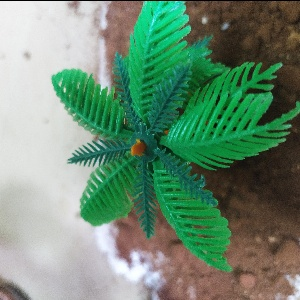plant: (33, 2, 298, 274)
